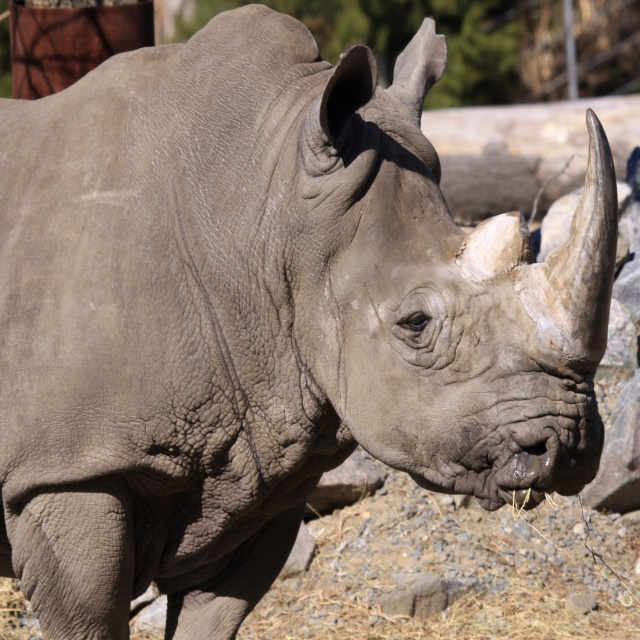Rhinoceros: (0, 0, 620, 640)
